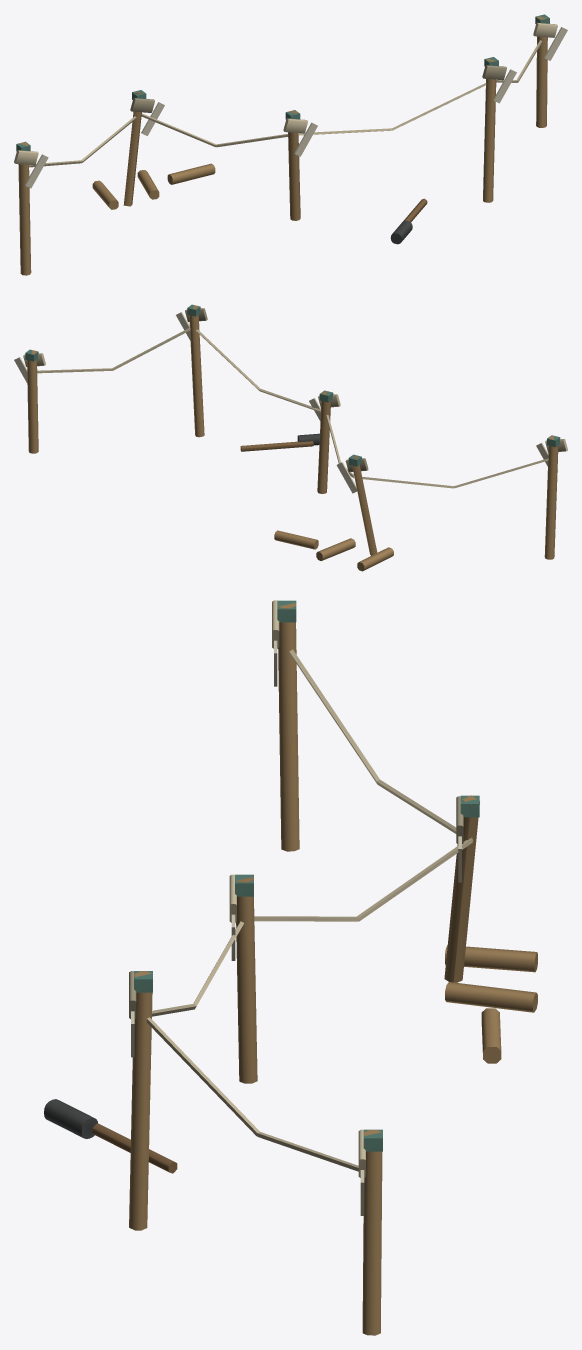
Rendered from survey_stakes_b.glb.
The picture shows the model from 3 angles, top to bottom: view 1: azimuth 30°, elevation 25°; view 2: azimuth 150°, elevation 25°; view 3: azimuth 270°, elevation 25°; orthographic projection. The views are drawn at different scales.
Visible parts, largest first — view 1: Surface; view 2: Surface; view 3: Surface.
Part boxes in pixels (x1=…): Surface: x1=14, y1=14, x2=567, y2=275; Surface: x1=14, y1=304, x2=567, y2=571; Surface: x1=44, y1=600, x2=537, y2=1335.
Bounding box in the file's own units: 3.36 × 0.7771 × 1.35.
